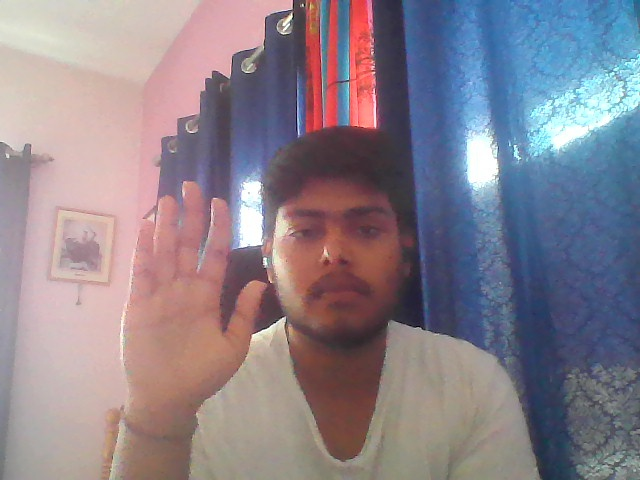Hello: (116, 175, 273, 434)
